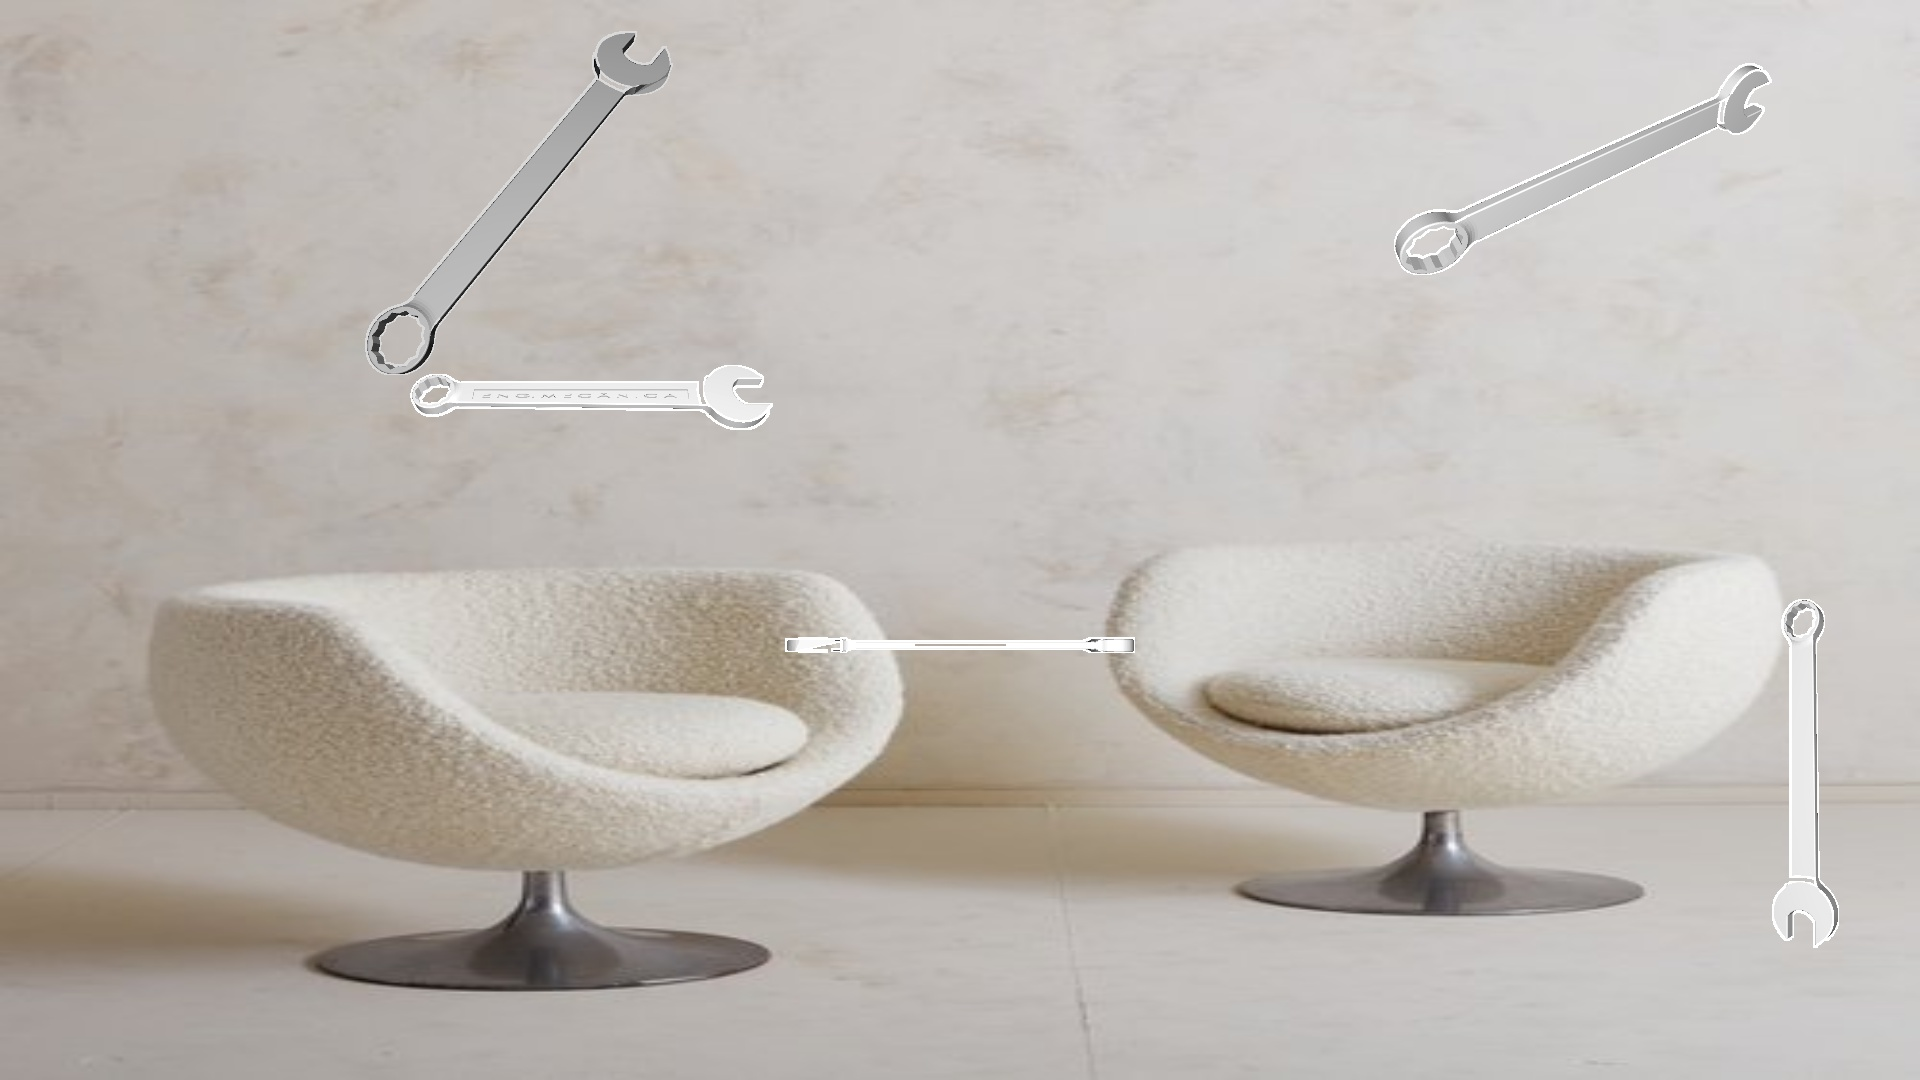Mixed Key: (365, 32, 673, 375), (1394, 63, 1771, 274), (1772, 599, 1838, 947), (410, 365, 771, 429), (785, 637, 1134, 651)
